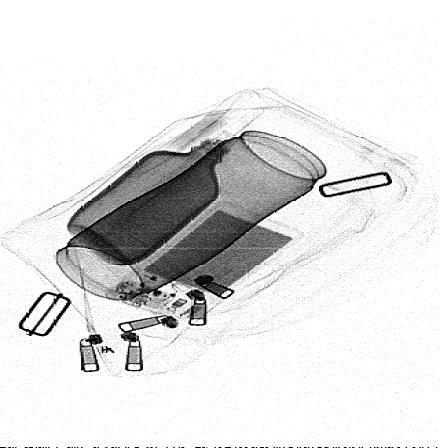Powerbank: (104, 201, 304, 324)
